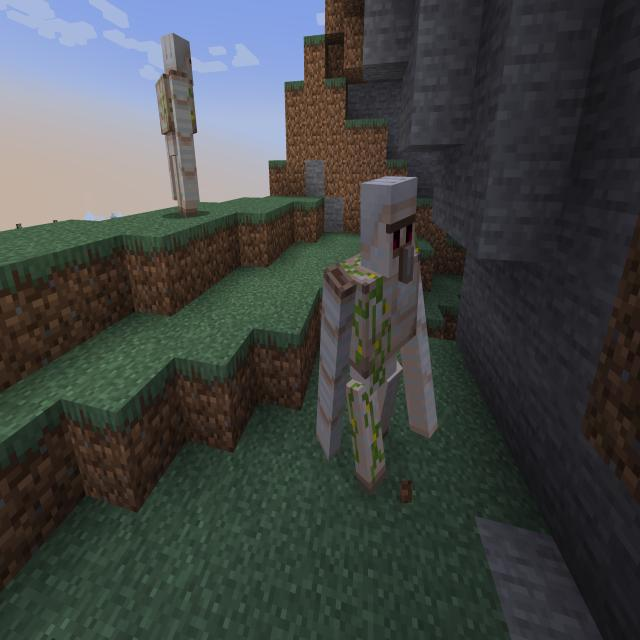Iron Golem: (315, 171, 440, 498), (154, 29, 204, 220)
